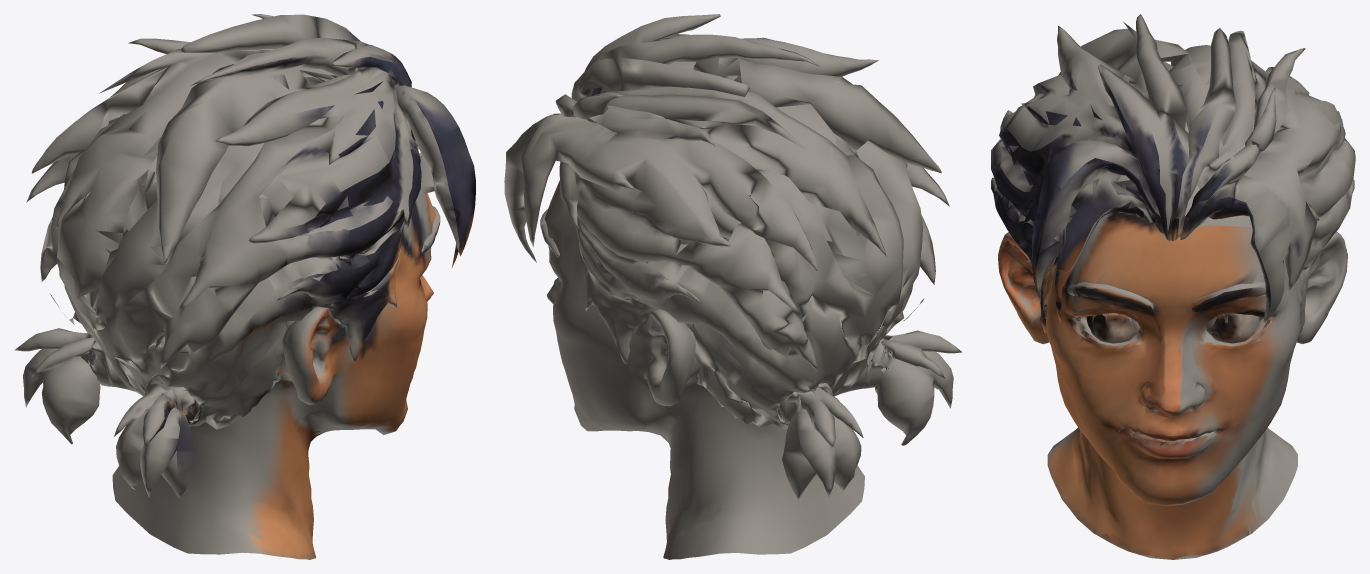
The model's file is head_pixel_match.glb.
3 renders of one model, left to right at view 1: azimuth 30°, elevation 25°; view 2: azimuth 150°, elevation 25°; view 3: azimuth 270°, elevation 25°, orthographic.
Visible parts, largest first — view 1: MeshAxiom; view 2: MeshAxiom; view 3: MeshAxiom.
Boxes of the visible parts, x1,y1,x2,y2 form: MeshAxiom: [14, 14, 475, 559]; MeshAxiom: [504, 14, 961, 559]; MeshAxiom: [991, 14, 1355, 559].
Size of the model in its own units: 0.2594 by 0.35 by 0.2314.
Materials: 1 (1 with a texture image).
